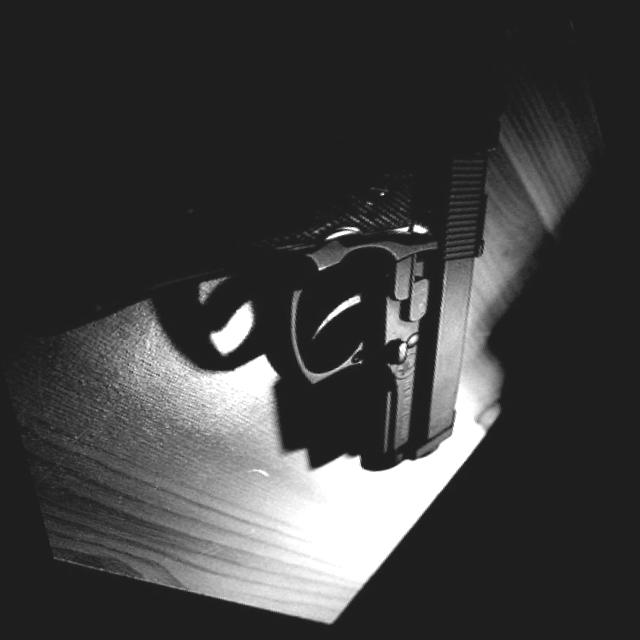handgun: (88, 58, 604, 526)
